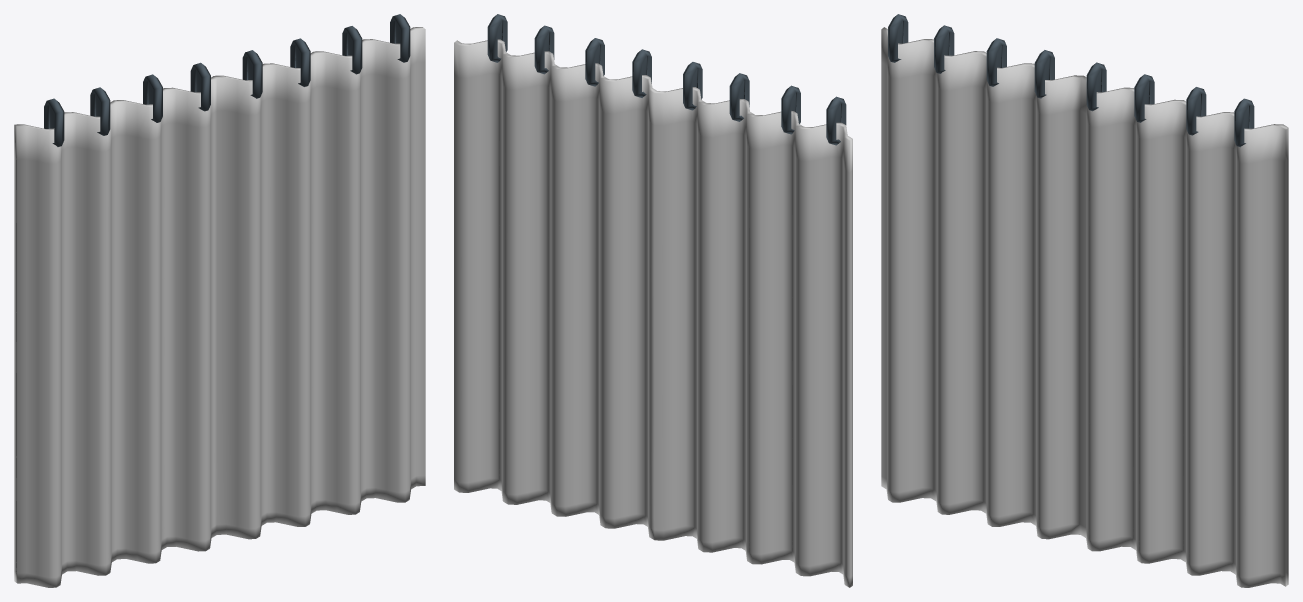
The model's file is curtain.fbx.
The picture shows the model from 3 angles, left to right: view 1: azimuth 30°, elevation 25°; view 2: azimuth 150°, elevation 25°; view 3: azimuth 330°, elevation 25°; orthographic projection. The views are drawn at different scales.
Visible parts, largest first — view 1: Base_5__M_Cnsw_58_BathSet_Obj_Plastic_rough; view 2: Base_5__M_Cnsw_58_BathSet_Obj_Plastic_rough; view 3: Base_5__M_Cnsw_58_BathSet_Obj_Plastic_rough.
Boxes of the visible parts, bbox=[...] form: Base_5__M_Cnsw_58_BathSet_Obj_Plastic_rough: bbox=[14, 14, 425, 587]; Base_5__M_Cnsw_58_BathSet_Obj_Plastic_rough: bbox=[454, 14, 852, 587]; Base_5__M_Cnsw_58_BathSet_Obj_Plastic_rough: bbox=[881, 14, 1288, 587].
Bounding box in the file's own units: 29441 × 33653 × 2591.
